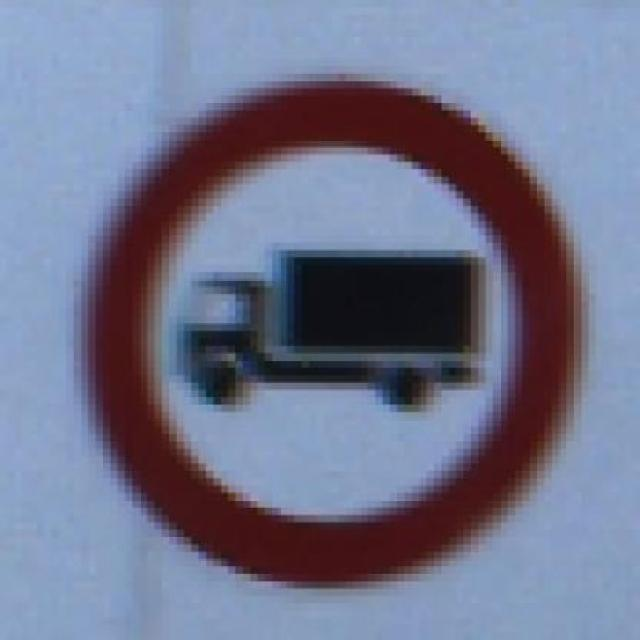Truck traffic is prohibited: (59, 66, 603, 596)
